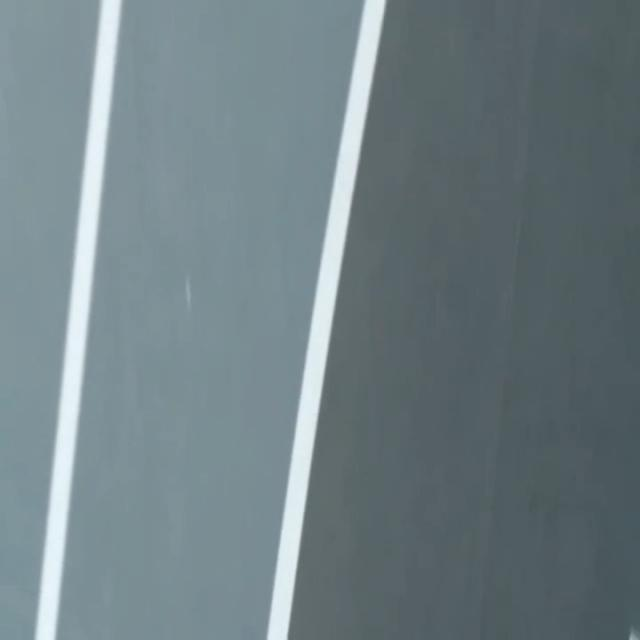left: (268, 0, 386, 639)
